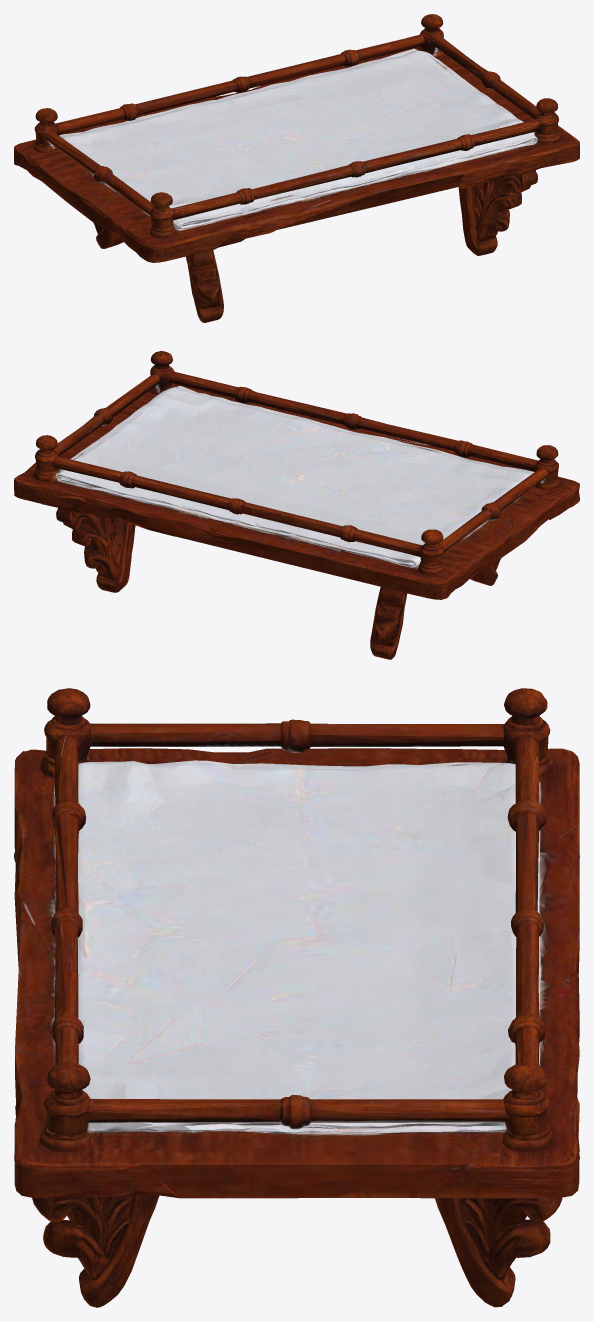
The model's file is w5altarshelf.glb.
The picture shows the model from 3 angles, top to bottom: view 1: azimuth 30°, elevation 25°; view 2: azimuth 150°, elevation 25°; view 3: azimuth 270°, elevation 25°; orthographic projection. The views are drawn at different scales.
Parts seen in each view (by area): view 1: output_unwrapped; view 2: output_unwrapped; view 3: output_unwrapped.
Part boxes in pixels (x1,y1,x2,y2): output_unwrapped: (14,14,579,322); output_unwrapped: (14,351,579,659); output_unwrapped: (14,688,579,1307).
Size of the model in its own units: 0.7 by 0.2249 by 0.3984.
Materials: 1 (1 with a texture image).
